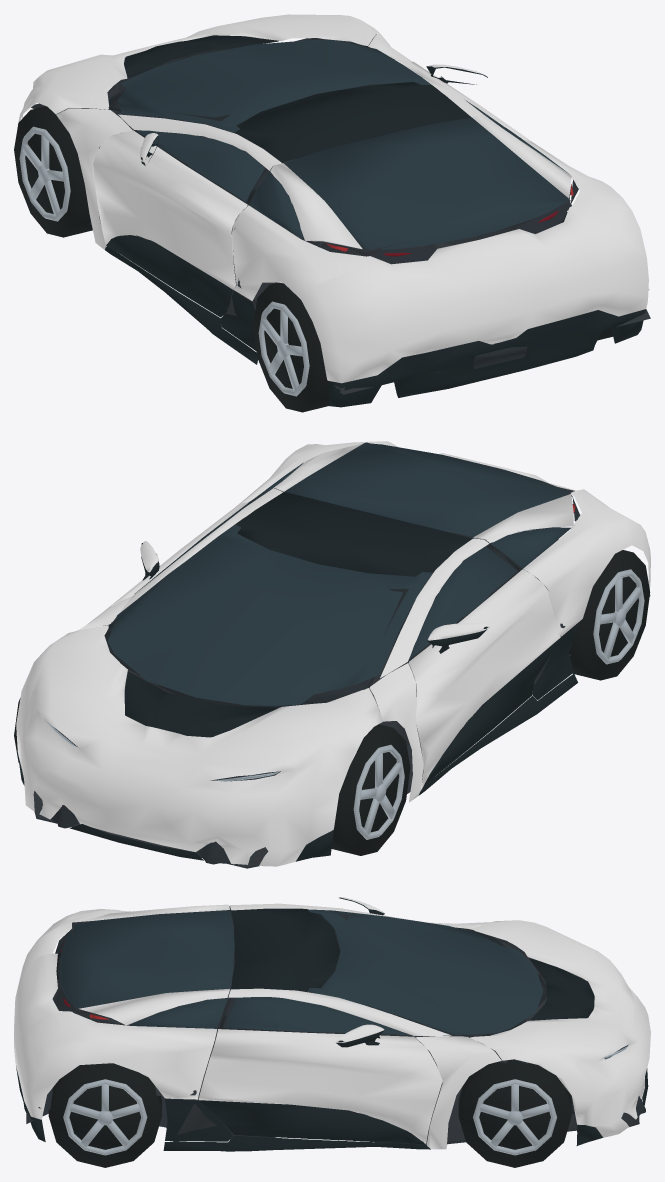
The model's file is concept-v11-race.glb.
3 views of the same model, one above another, from view 1: azimuth 30°, elevation 25°; view 2: azimuth 150°, elevation 25°; view 3: azimuth 270°, elevation 25° (orthographic). The views are drawn at different scales.
Visible parts, largest first — view 1: Body; view 2: Body; view 3: Body.
Part boxes in pixels (bbox=[...]): Body: bbox=[14, 14, 650, 412]; Body: bbox=[14, 441, 650, 868]; Body: bbox=[14, 897, 650, 1167].
Size of the model in its own units: 2.12 by 1.04 by 3.95.
